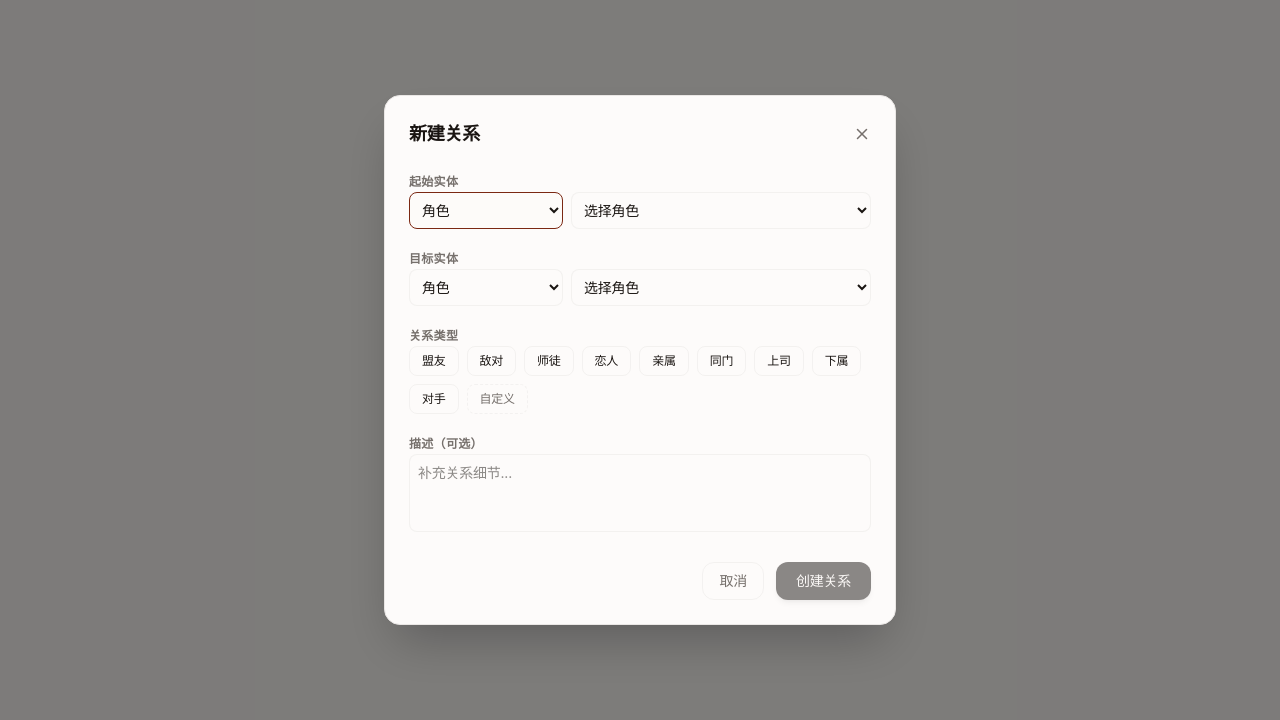
Scenario: relationship generation guard › keeps the relationship draft open when a generation conflict rejects creation
The width and height of the screenshot is (1280, 720).
Select "甲" in the dropdown with id "source-id": [721, 210] box 571,192 -> 871,229
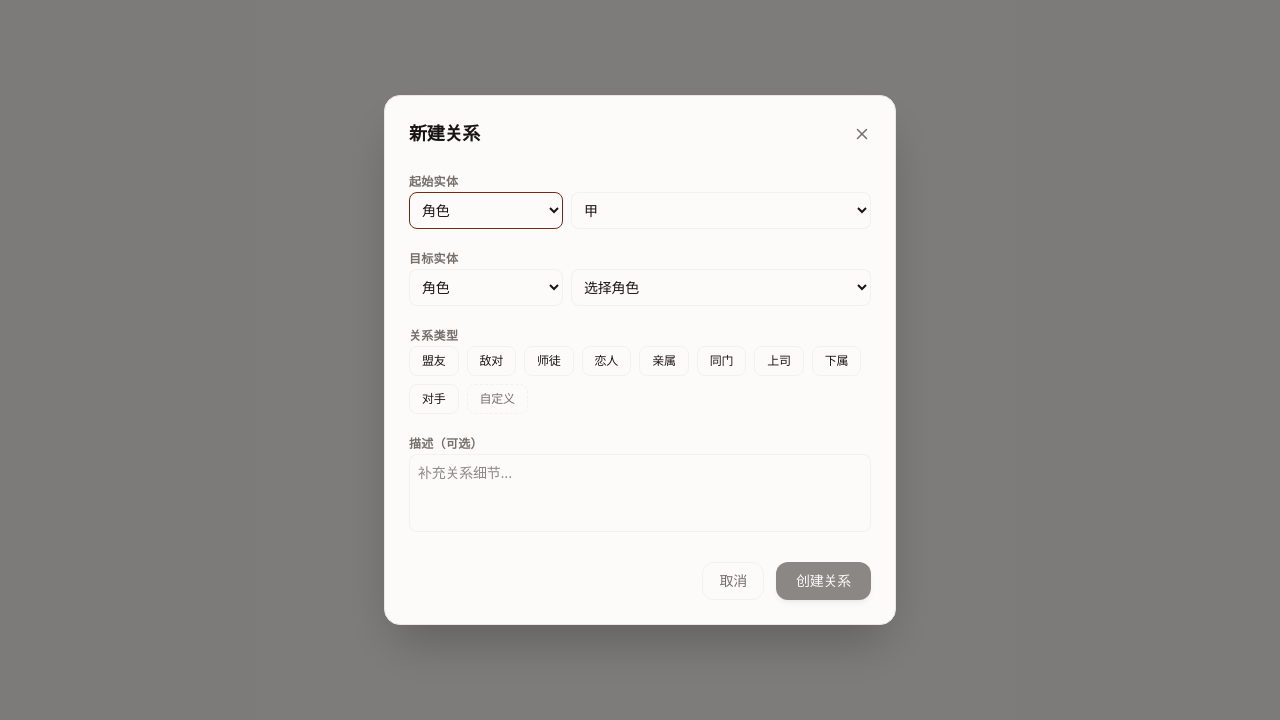
Select "乙" in the dropdown with id "target-id": [721, 288] box 571,269 -> 871,306
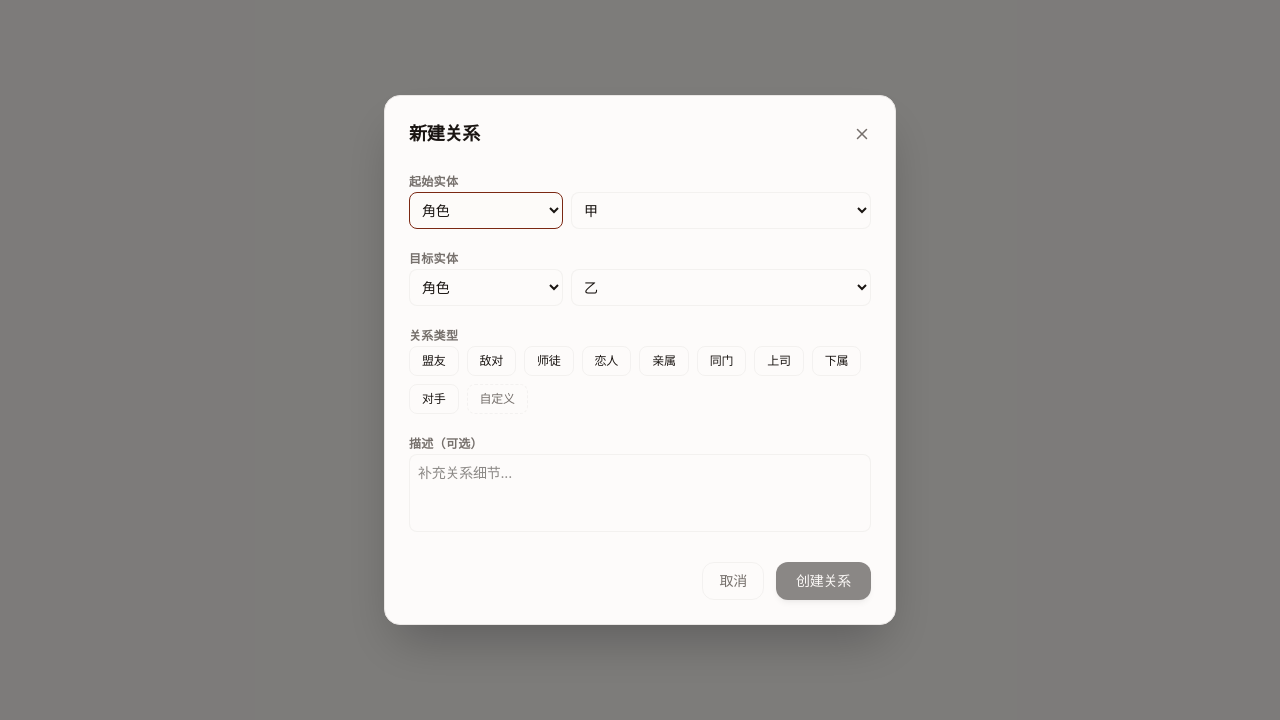
Click the button "盟友": [434, 361] box 409,346 -> 458,376
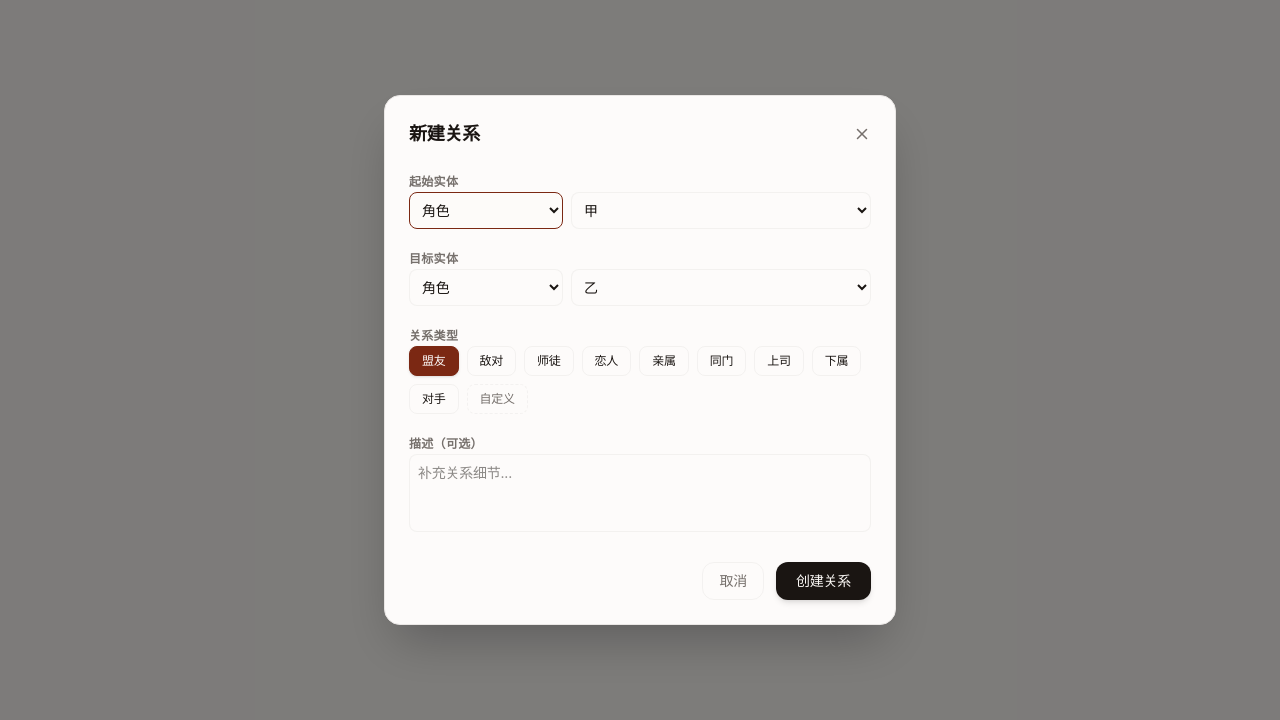
In the text box with placeholder "补充关系细节...": [640, 493] box 409,454 -> 871,532, type "不会丢失的本地说明"
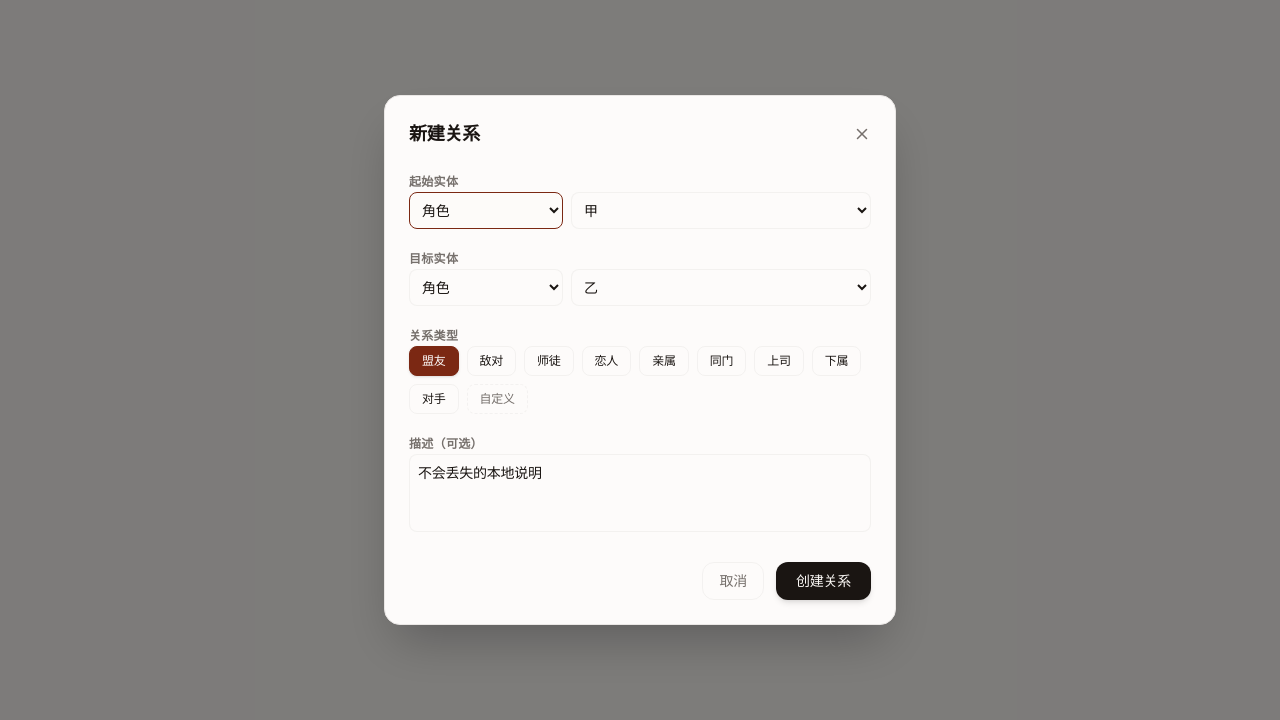
Click the button "创建关系": [824, 581] box 776,562 -> 871,600
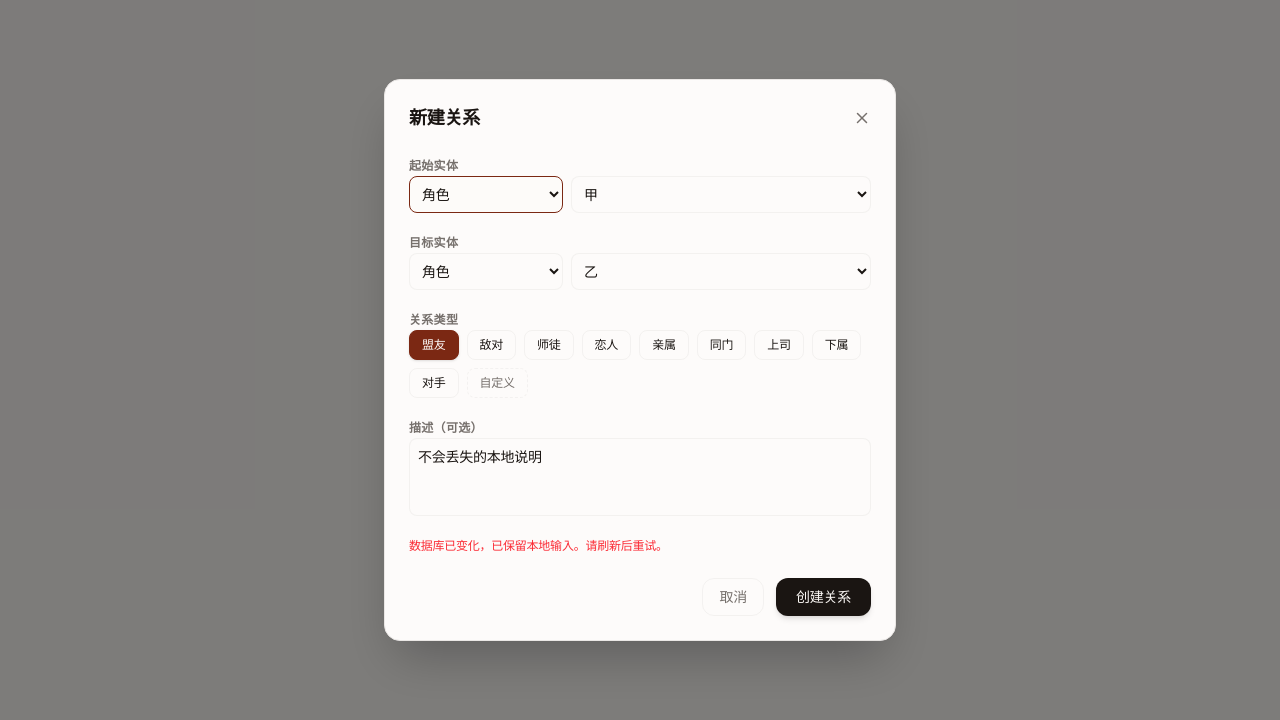
Check: the dialog is shown, box 384,79 -> 896,641
Check: the text "数据库已变化，已保留本地输入。请刷新后重试。" is shown, box 409,538 -> 668,553
